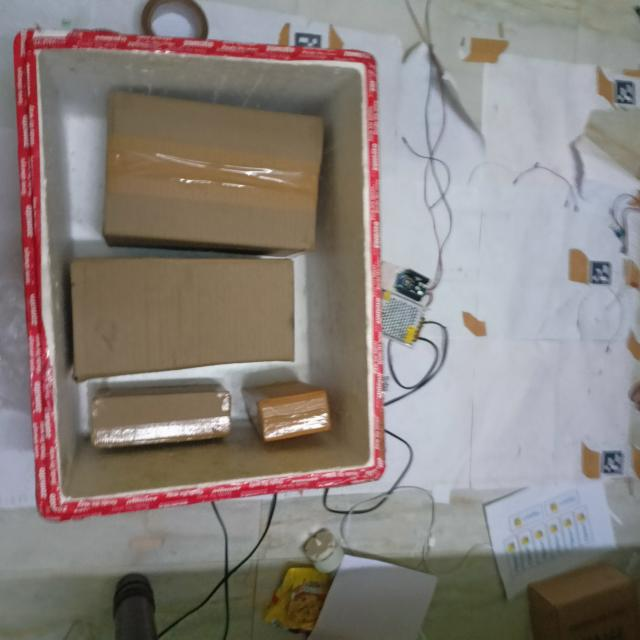box: (101, 78, 327, 254), (75, 241, 293, 377)
